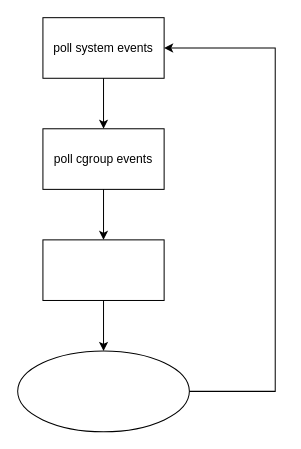
The diagram is 301 pixels wide and 449 high, and some of its shapes have lost their labels. The shapes that lost their labels are listed below. From the top down, each one's box as (x1, y1, x2, y2) in pixels, then its label:
(42, 239, 164, 300): send report to clients
(17, 350, 189, 432): wait next iteration (e.g. 1 seconds, if 1Hz)
